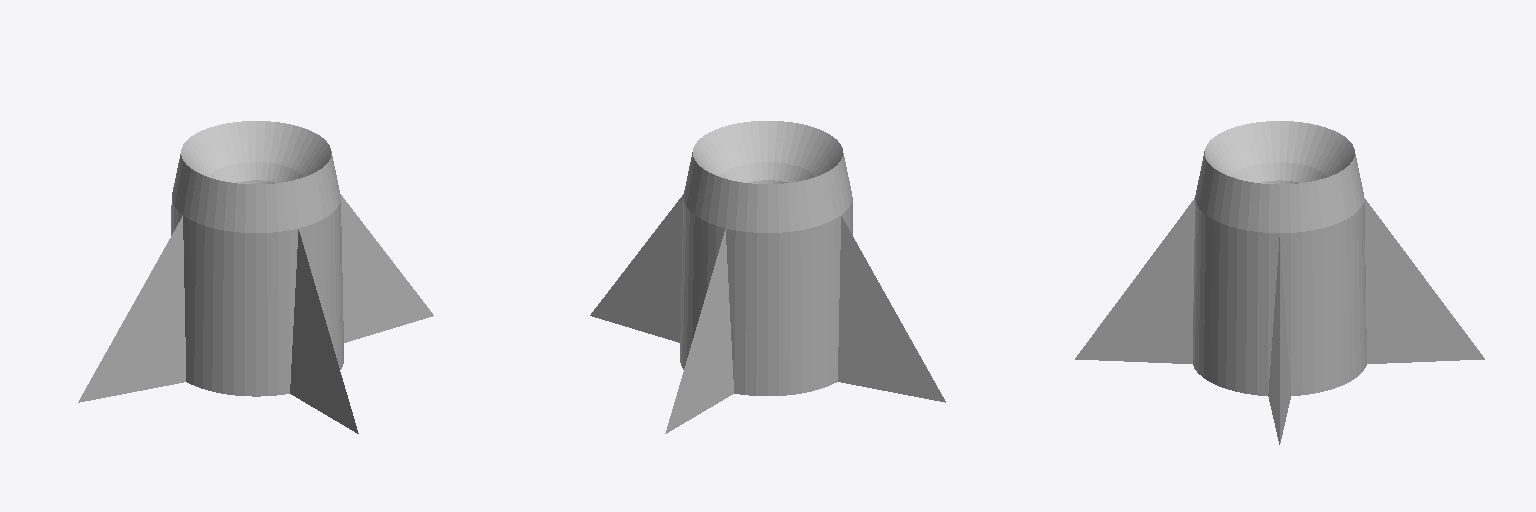
The model's file is rocket.obj.
The picture shows the model from 3 angles: view 1: azimuth 30°, elevation 25°; view 2: azimuth 150°, elevation 25°; view 3: azimuth 270°, elevation 25°; orthographic projection.
Visible parts, largest first — view 1: rocket_Torus; view 2: rocket_Torus; view 3: rocket_Torus.
Boxes of the visible parts, box(x1,y1,x2,y2) form: rocket_Torus: box(78, 121, 433, 433); rocket_Torus: box(590, 121, 945, 433); rocket_Torus: box(1075, 121, 1484, 444).
Bounding box in the file's own units: 5.99 × 3.32 × 5.98.